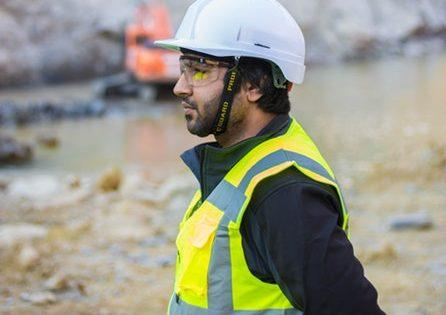helmet: (174, 1, 309, 85)
